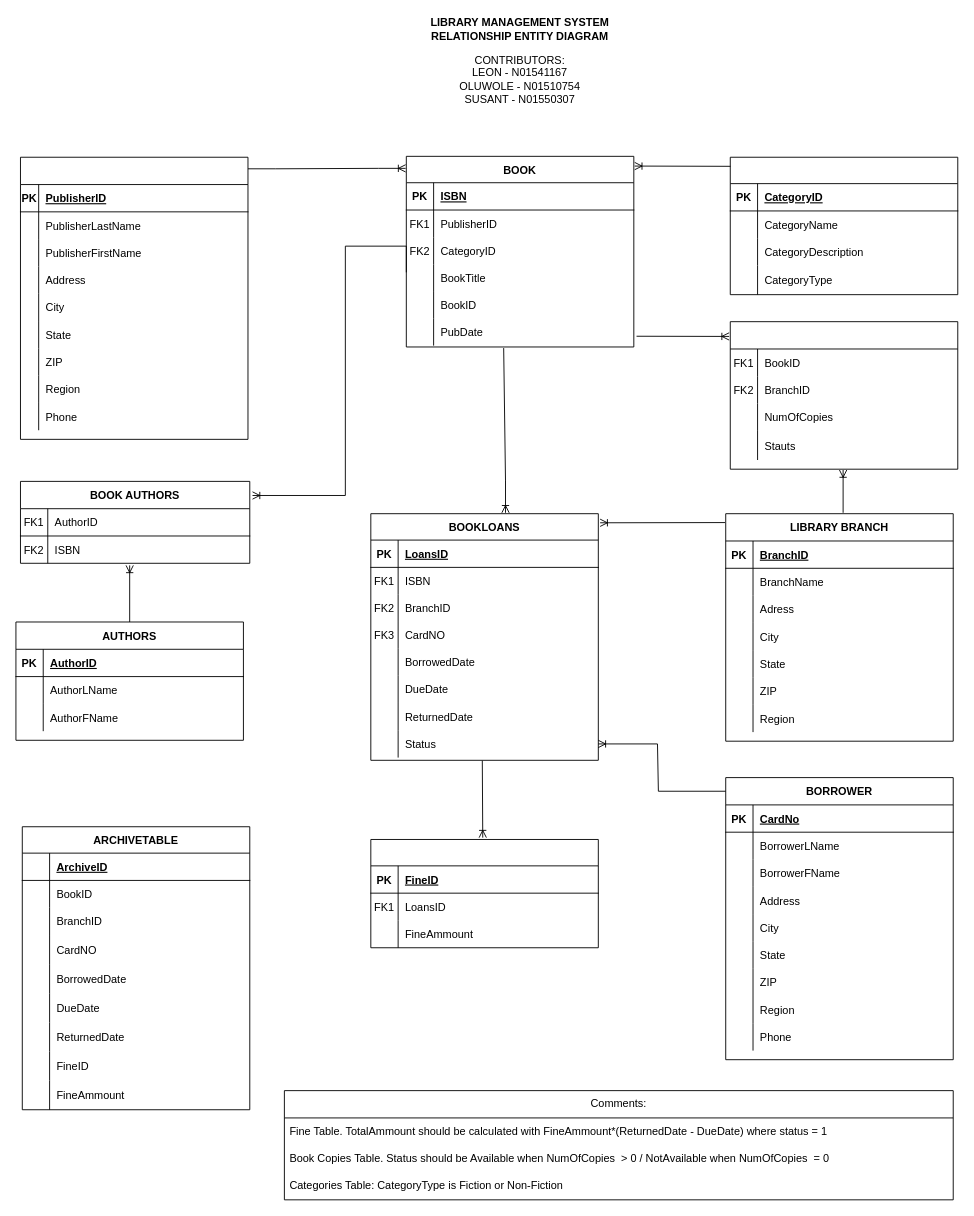
Image size: 974x1216. Some labels were removed from this diagram. Here are the shapes that lost their labels. From the top down, the box of each, then its label:
(729, 156, 958, 295): CATEGORIES
(20, 156, 248, 439): PUBLISHERS
(729, 321, 958, 469): BOOK COPIES
(370, 839, 598, 948): FINES
